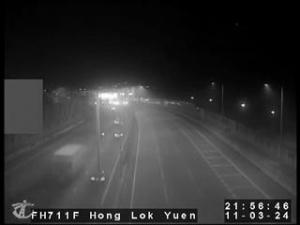truck: (51, 144, 85, 182)
vehicle: (90, 170, 106, 186), (114, 130, 124, 140)
